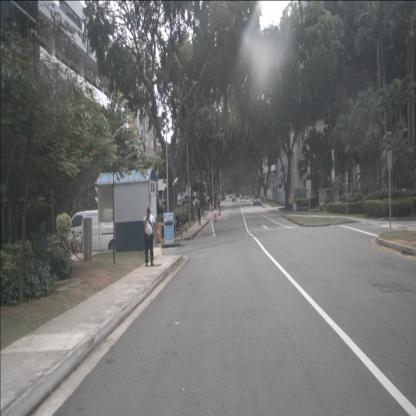human-pedestrian-adult: (144, 206, 156, 267), (197, 205, 201, 225), (218, 198, 220, 208), (215, 198, 217, 208), (218, 198, 219, 208)
movable_object-trafficcone: (214, 213, 217, 224), (215, 214, 218, 222)
vehicle-bicycle: (50, 224, 83, 261)
vehicle-car: (63, 207, 124, 254), (324, 188, 350, 204), (181, 196, 193, 205), (253, 196, 261, 205), (174, 196, 181, 203), (232, 194, 235, 202)
